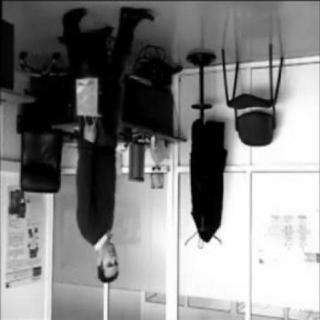other: (72, 76, 100, 122)
